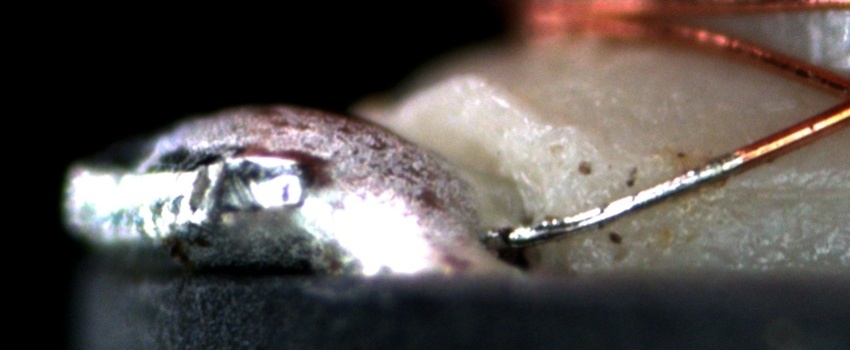CL: (809, 63, 849, 133)
DL: (716, 156, 849, 221)
TS: (486, 151, 748, 245)
